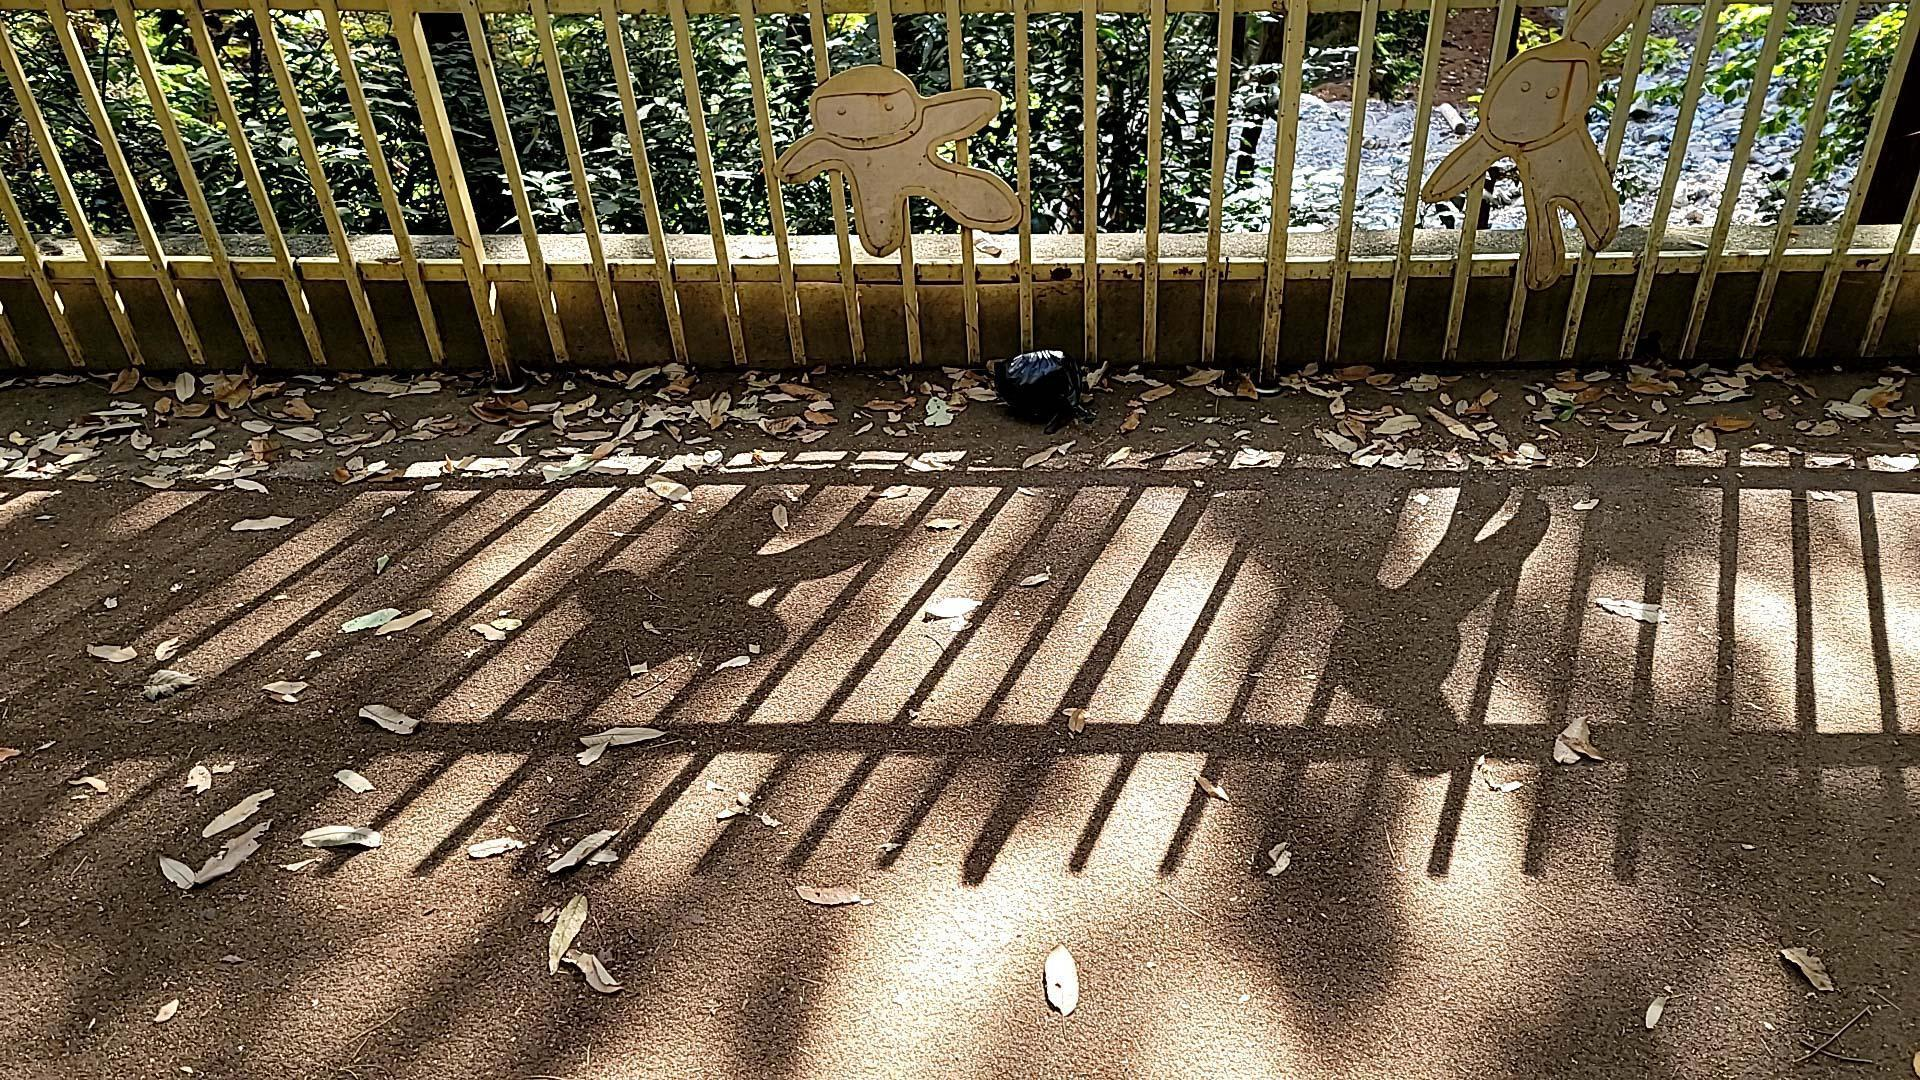black_bag: (986, 347, 1101, 434)
